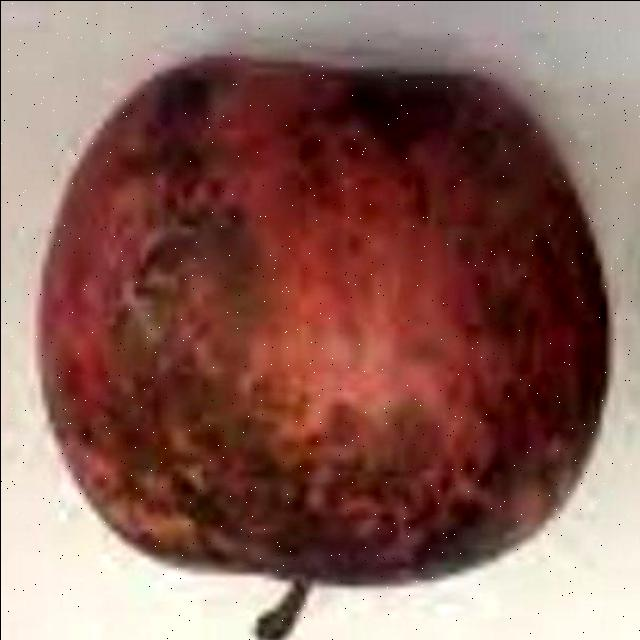BLOTCH: (49, 7, 612, 604)
